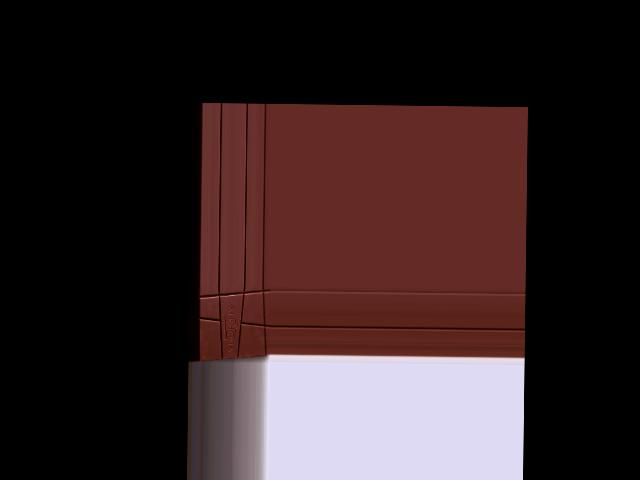chocolate: (194, 284, 270, 363)
